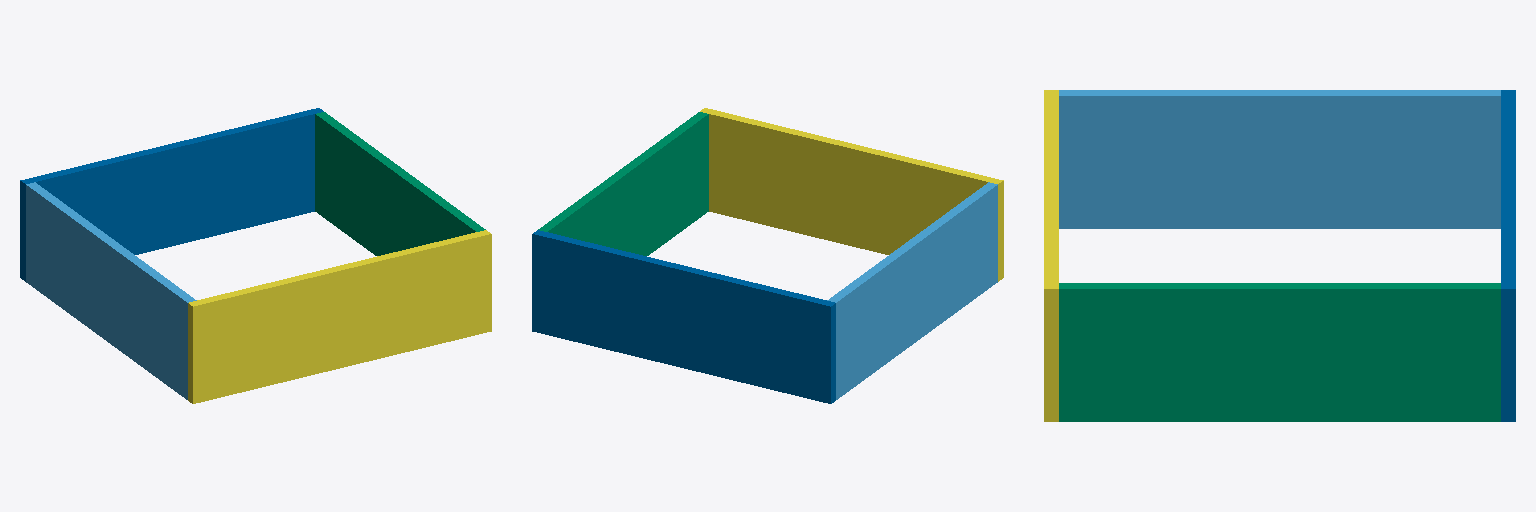
URDF robot description (wall):
<?xml version="1.0" ?>
<robot name="wall">

    <link name="wall_base_link">
        <inertial>
        <mass value="0"/>
        <inertia ixx="0.0" ixy="0.0" ixz="0.0" iyy="0.0" iyz="0.0" izz="0.0"/>
        </inertial>
    </link>

    <link name="x_neg_wall">
        <contact>
            <lateral_friction value="2"/>
        </contact>
        <inertial>
            <origin rpy="0 0 0" xyz="-0.155 0 0.05"/>
            <mass value="0"/>
            <inertia ixx="0" ixy="0" ixz="0" iyy="0" iyz="0" izz="0"/>
        </inertial>
        <visual>
            <origin rpy="0 0 0" xyz="-0.155 0 0.05"/>
            <geometry>
                <mesh filename="wallx30.obj" scale="1 1 1"/>
            </geometry>
        </visual>
        <collision>
            <origin rpy="0 0 0" xyz="-0.155 0 0.05"/>
            <geometry>
                <mesh filename="wallx30.obj" scale="1 1 1"/>
            </geometry>
        </collision>
    </link>

    <joint name="base_to_x_neg_wall" type="fixed">
        <parent link="wall_base_link"/>
        <child link="x_neg_wall"/>
    </joint>


    <link name="x_pos_wall">
        <contact>
            <lateral_friction value="2"/>
        </contact>
        <inertial>
            <origin rpy="0 0 0" xyz="0.155 0 0.05"/>
            <mass value="0"/>
            <inertia ixx="0" ixy="0" ixz="0" iyy="0" iyz="0" izz="0"/>
        </inertial>
        <visual>
            <origin rpy="0 0 0" xyz="0.155 0 0.05"/>
            <geometry>
                <mesh filename="wallx30.obj" scale="1 1 1"/>
            </geometry>
        </visual>
        <collision>
            <origin rpy="0 0 0" xyz="0.155 0 0.05"/>
            <geometry>
                <mesh filename="wallx30.obj" scale="1 1 1"/>
            </geometry>
        </collision>
    </link>

    <joint name="base_to_x_pos_wall" type="fixed">
        <parent link="wall_base_link"/>
        <child link="x_pos_wall"/>
    </joint>


    <link name="y_neg_wall">
        <contact>
            <lateral_friction value="2"/>
        </contact>
        <inertial>
            <origin rpy="0 0 0" xyz="0 -0.155 0.05"/>
            <mass value="0"/>
            <inertia ixx="0" ixy="0" ixz="0" iyy="0" iyz="0" izz="0"/>
        </inertial>
        <visual>
            <origin rpy="0 0 0" xyz="0 -0.155 0.05"/>
            <geometry>
                <mesh filename="wally32.obj" scale="1 1 1"/>
            </geometry>
        </visual>
        <collision>
            <origin rpy="0 0 0" xyz="0 -0.155 0.05"/>
            <geometry>
                <mesh filename="wally32.obj" scale="1 1 1"/>
            </geometry>
        </collision>
    </link>

    <joint name="base_to_y_neg_wall" type="fixed">
        <parent link="wall_base_link"/>
        <child link="y_neg_wall"/>
    </joint>

    <link name="y_pos_wall">
        <contact>
            <lateral_friction value="2"/>
        </contact>
        <inertial>
            <origin rpy="0 0 0" xyz="0 0.155 0.05"/>
            <mass value="0"/>
            <inertia ixx="0" ixy="0" ixz="0" iyy="0" iyz="0" izz="0"/>
        </inertial>
        <visual>
            <origin rpy="0 0 0" xyz="0 0.155 0.05"/>
            <geometry>
                <mesh filename="wally32.obj" scale="1 1 1"/>
            </geometry>
        </visual>
        <collision>
            <origin rpy="0 0 0" xyz="0 0.155 0.05"/>
            <geometry>
                <mesh filename="wally32.obj" scale="1 1 1"/>
            </geometry>
        </collision>
    </link>

    <joint name="base_to_y_pos_wall" type="fixed">
        <parent link="wall_base_link"/>
        <child link="y_pos_wall"/>
    </joint>

    <link name="bottom">
        <contact>
            <lateral_friction value="2"/>
        </contact>
        <inertial>
            <origin rpy="0 0 0" xyz="0 0 0"/>
            <mass value="0"/>
            <inertia ixx="0" ixy="0" ixz="0" iyy="0" iyz="0" izz="0"/>
        </inertial>
        <visual>
            <origin rpy="0 0 0" xyz="0 0 0"/>
            <geometry>
                <mesh filename="bottom.obj" scale="1 1 1"/>
            </geometry>
        </visual>
        <collision>
            <origin rpy="0 0 0" xyz="0 0 0"/>
            <geometry>
                <mesh filename="bottom.obj" scale="1 1 1"/>
            </geometry>
        </collision>
    </link>

    <joint name="base_to_bottom" type="fixed">
        <parent link="wall_base_link"/>
        <child link="bottom"/>
    </joint>

</robot>

--- Render facts (derived) ---
Views: 3 orthographic renders of the robot side by side, from view 1: azimuth 30°, elevation 25°; view 2: azimuth 150°, elevation 25°; view 3: azimuth 270°, elevation 25°.
Robot: wall — 6 links, 5 joints (5 fixed); root link wall_base_link; default pose: all joints at 0.
Visible links, largest first — view 1: y_neg_wall, y_pos_wall, x_neg_wall, x_pos_wall; view 2: y_pos_wall, y_neg_wall, x_neg_wall, x_pos_wall; view 3: x_neg_wall, x_pos_wall, y_neg_wall, y_pos_wall.
Boxes of the visible links, x1,y1,x2,y2 form: y_neg_wall: (188, 230, 491, 403); y_pos_wall: (20, 108, 323, 281); x_neg_wall: (26, 182, 196, 399); x_pos_wall: (315, 112, 485, 255); y_pos_wall: (532, 230, 835, 403); y_neg_wall: (700, 108, 1003, 281); x_neg_wall: (827, 182, 997, 399); x_pos_wall: (538, 112, 708, 255); x_neg_wall: (1059, 90, 1500, 228); x_pos_wall: (1059, 283, 1500, 421); y_neg_wall: (1044, 90, 1058, 421); y_pos_wall: (1501, 90, 1515, 421).
Bounding box of the posed robot: 0.32 × 0.32 × 0.1 m (x, y, z).
4 mesh visuals loaded from 3 distinct referenced files (2 OBJ); not drawn: 1 (reference not matched to a file when rendering).
